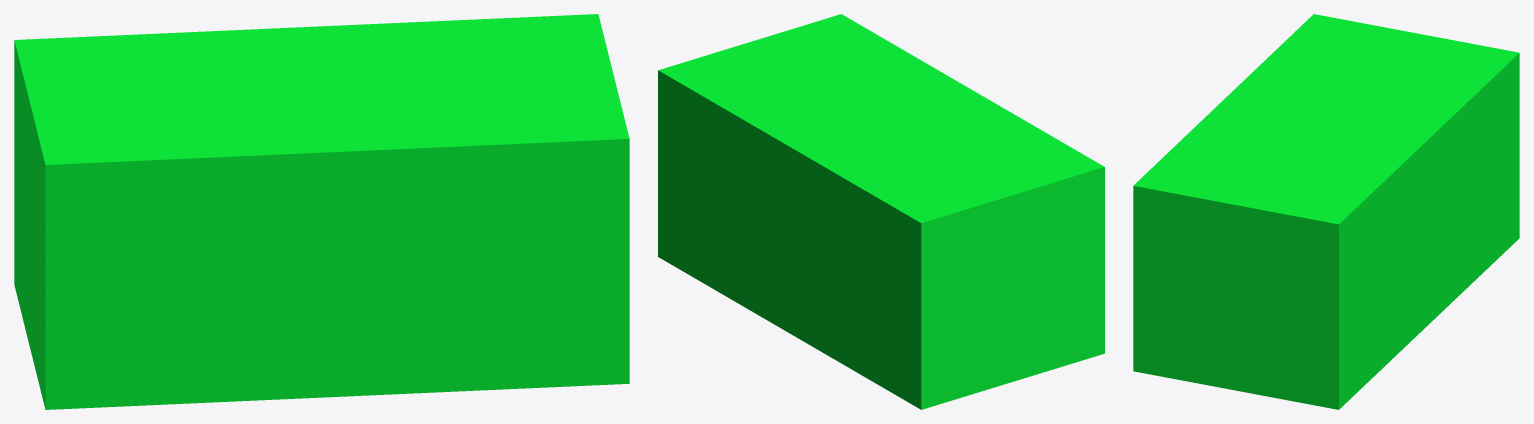
The model's file is DEHB01ALk00017Nm.dae.
3 renders of one model, left to right at view 1: azimuth 30°, elevation 25°; view 2: azimuth 150°, elevation 25°; view 3: azimuth 270°, elevation 25°, orthographic. The views are drawn at different scales.
Size of the model in its own units: 6.59 by 5.12 by 2.71.
